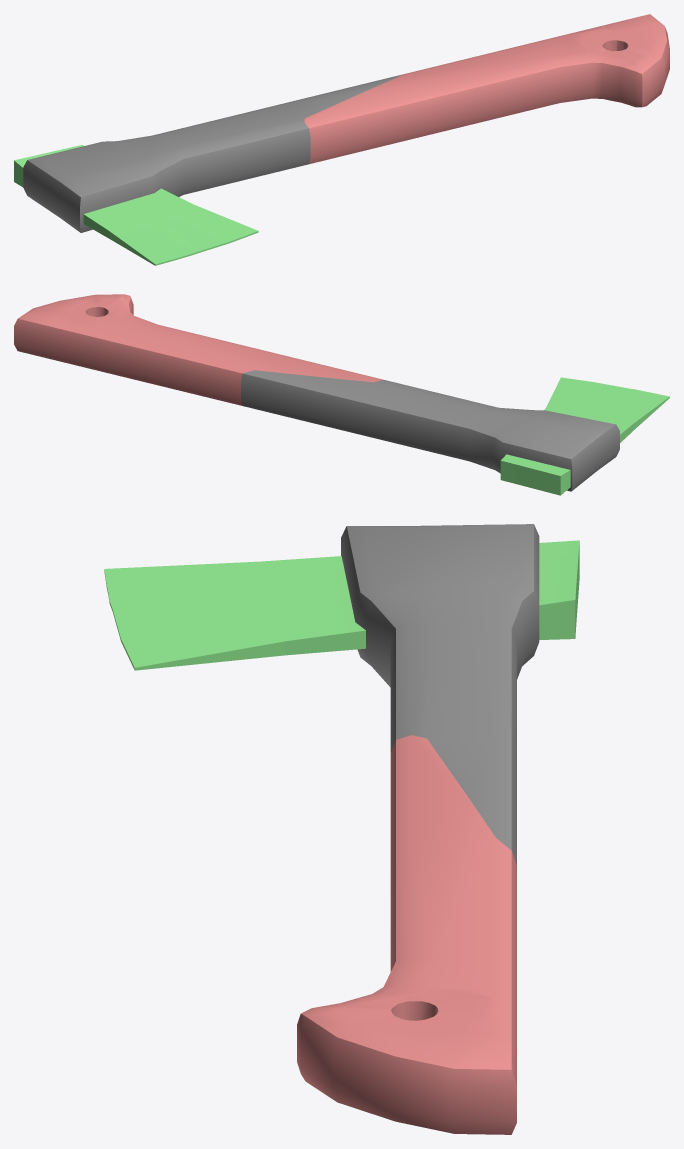
Rendered from Hatchet.fbx.
3 renders of one model, top to bottom at view 1: azimuth 30°, elevation 25°; view 2: azimuth 150°, elevation 25°; view 3: azimuth 270°, elevation 25°, orthographic. The views are drawn at different scales.
Parts seen in each view (by area): view 1: hatchet; view 2: hatchet; view 3: hatchet.
Part boxes in pixels (box(x1,y1,x2,y2)): hatchet: box(14, 14, 669, 265); hatchet: box(14, 294, 669, 495); hatchet: box(104, 524, 579, 1134).
Bounding box in the file's own units: 129 × 8.25 × 47.23.
